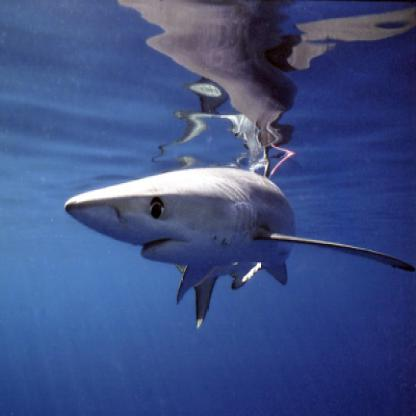Shark -Selachimorpha-: (64, 133, 416, 342)
